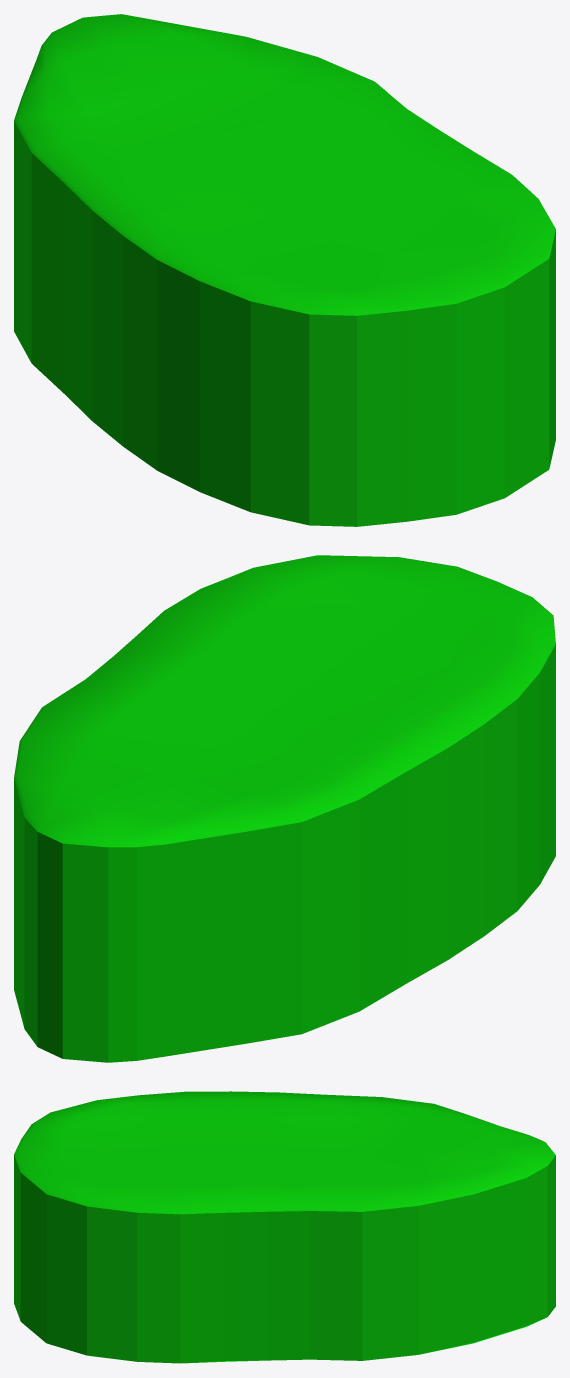
File: UCX_ISle_Trigger.fbx
The picture shows the model from 3 angles, top to bottom: view 1: azimuth 30°, elevation 25°; view 2: azimuth 150°, elevation 25°; view 3: azimuth 270°, elevation 25°; orthographic projection. The views are drawn at different scales.
Parts seen in each view (by area): view 1: UCX_ISle_Trigger; view 2: UCX_ISle_Trigger; view 3: UCX_ISle_Trigger.
Boxes of the visible parts, bbox=[...] form: UCX_ISle_Trigger: bbox=[14, 14, 555, 526]; UCX_ISle_Trigger: bbox=[14, 555, 555, 1062]; UCX_ISle_Trigger: bbox=[14, 1091, 555, 1363].
Size of the model in its own units: 4832 by 2869 by 9059.
